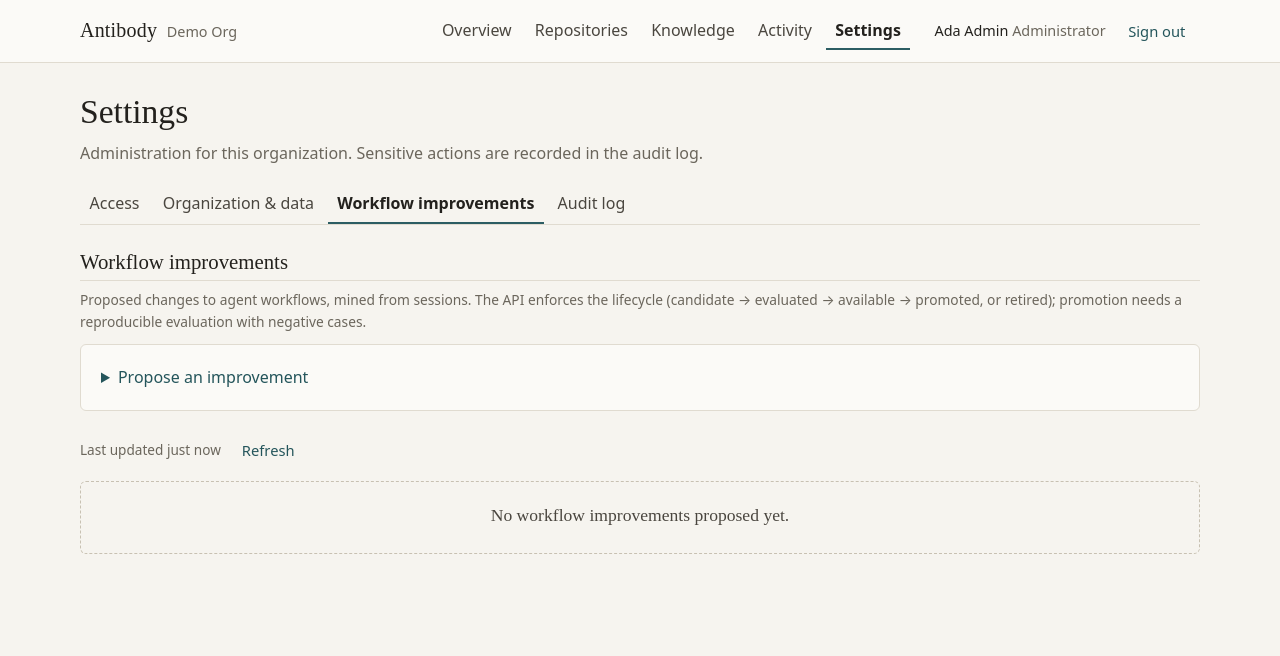
Test: workflow improvements › proposes an improvement and lists it as a candidate
Expected: the text "No workflow improvements proposed yet." is shown, [491, 505, 789, 525]
Click the heading "Propose an improvement". click: (213, 377)
box: [118, 366, 308, 388]
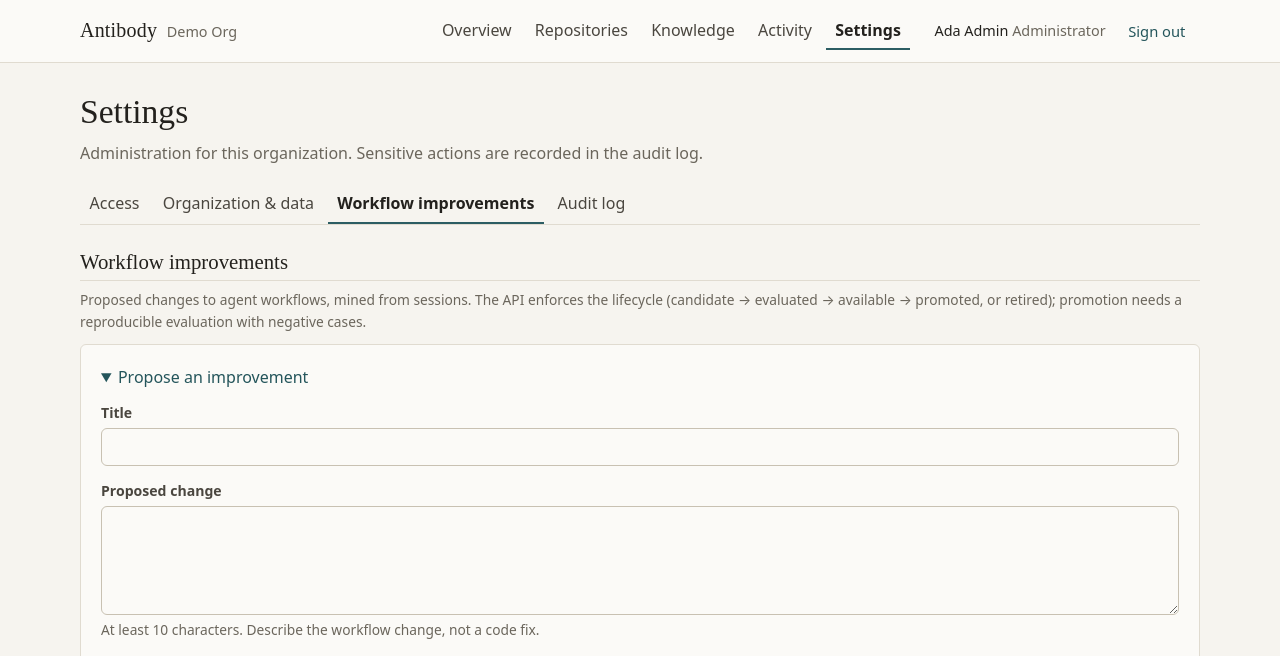
Type "Run cargo check before tests" into the field labelled "Title". click: (640, 447)
box: [101, 428, 1179, 466]
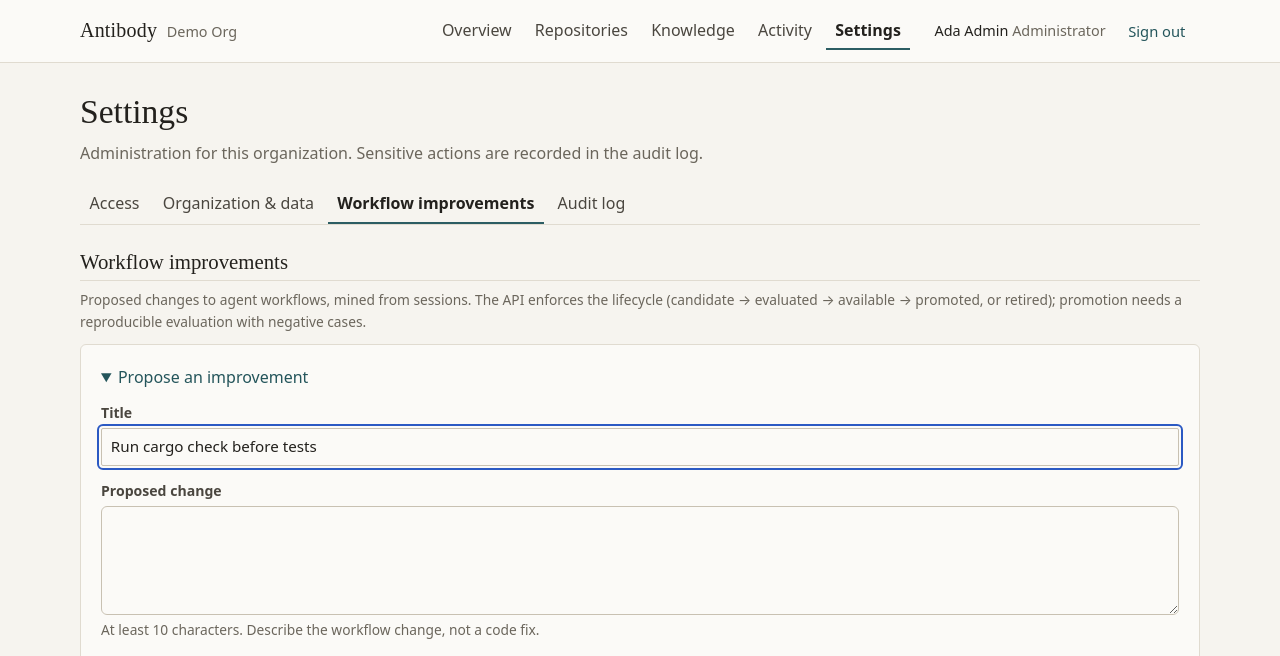
Type "Agents should run cargo check before cargo test to fail fast." into the text box labelled "Proposed change". click: (640, 561)
box: [101, 506, 1179, 615]
(page scrolled)
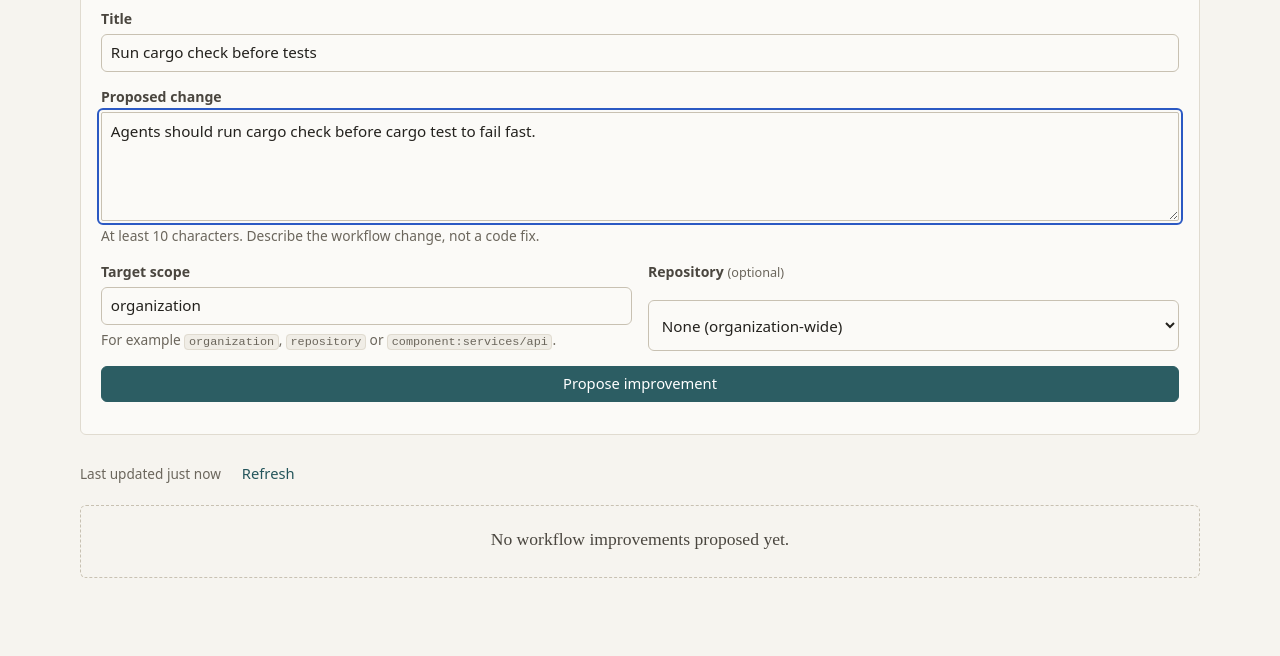
Click the button "Propose improvement". click: (640, 384)
box: [101, 366, 1179, 402]
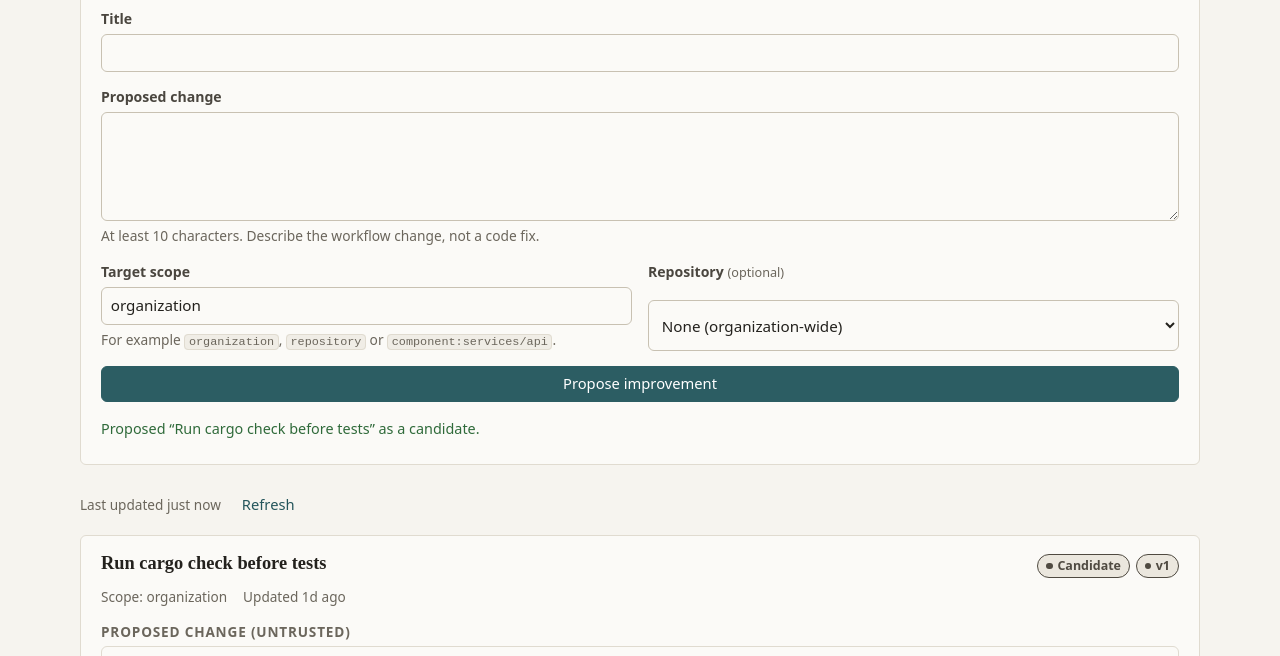
Now the text "Candidate" is shown, box [1037, 554, 1130, 578]
